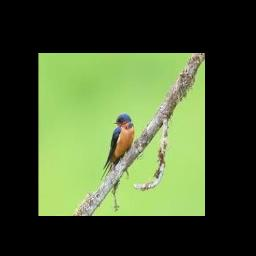Swallow: (101, 113, 135, 182)
